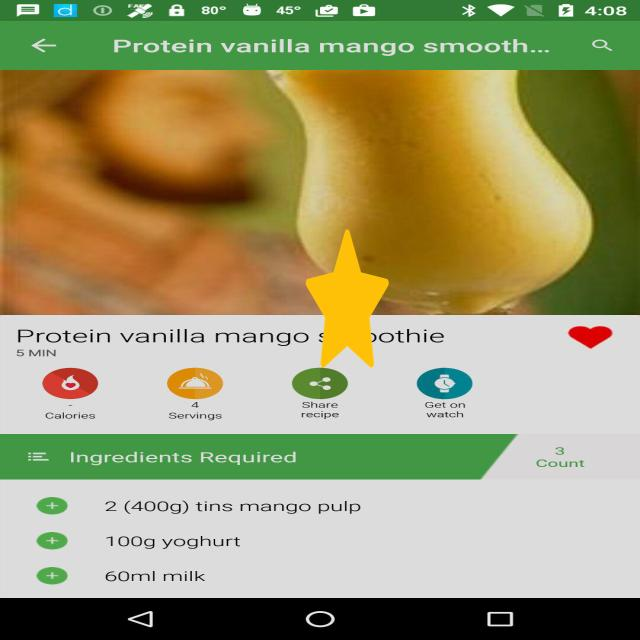forced continuity: (306, 229, 389, 368)
